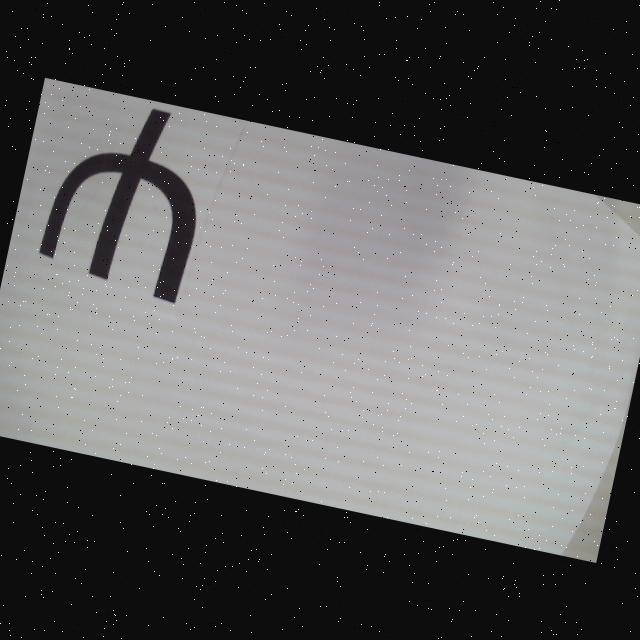PSI: (32, 90, 218, 304)
